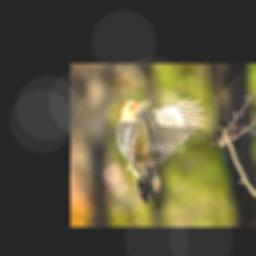Woodpecker: (115, 98, 205, 203)
